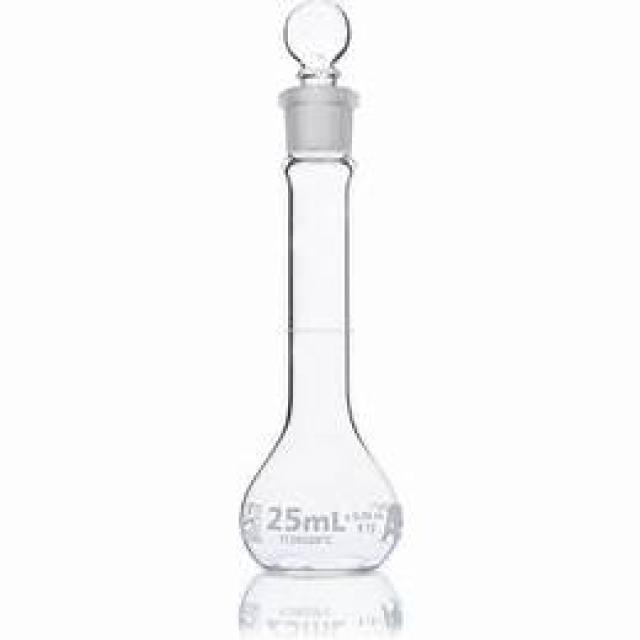Volumetric flask: (190, 13, 411, 577)
